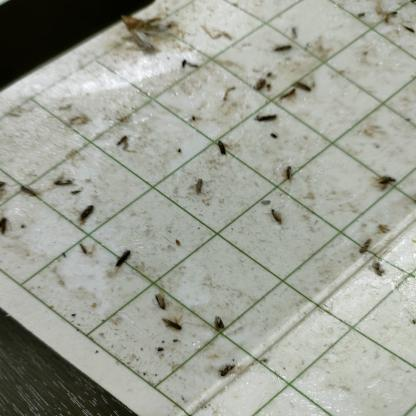prays_oleae: (266, 203, 287, 237), (75, 204, 100, 228), (354, 236, 377, 262), (257, 105, 280, 129), (373, 169, 396, 193), (109, 245, 131, 270), (274, 39, 295, 61), (219, 355, 238, 379), (162, 314, 188, 331), (368, 259, 388, 281), (293, 75, 311, 99), (152, 290, 169, 312), (214, 138, 229, 160), (278, 87, 296, 105), (192, 178, 208, 196), (283, 164, 294, 188), (212, 314, 224, 332), (116, 136, 130, 151)
